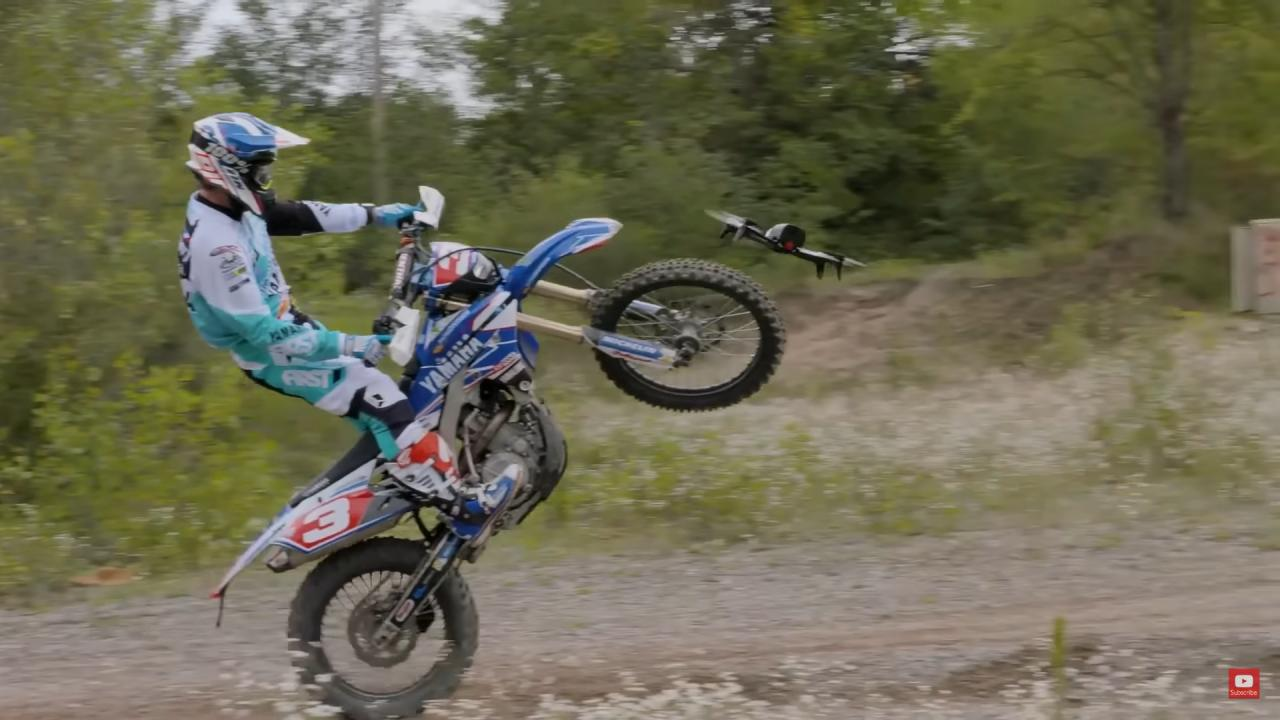Drone: (693, 188, 874, 299)
